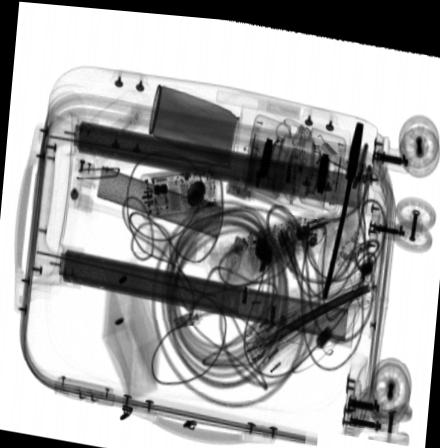Wrench: (322, 116, 363, 293)
